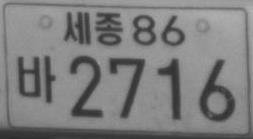1: (156, 57, 188, 122)
2: (66, 54, 105, 119)
6: (197, 56, 238, 122), (160, 14, 185, 48)
7: (107, 56, 147, 119)
8: (131, 14, 157, 46)
바: (15, 55, 57, 103)
세종_H: (62, 11, 123, 47)
